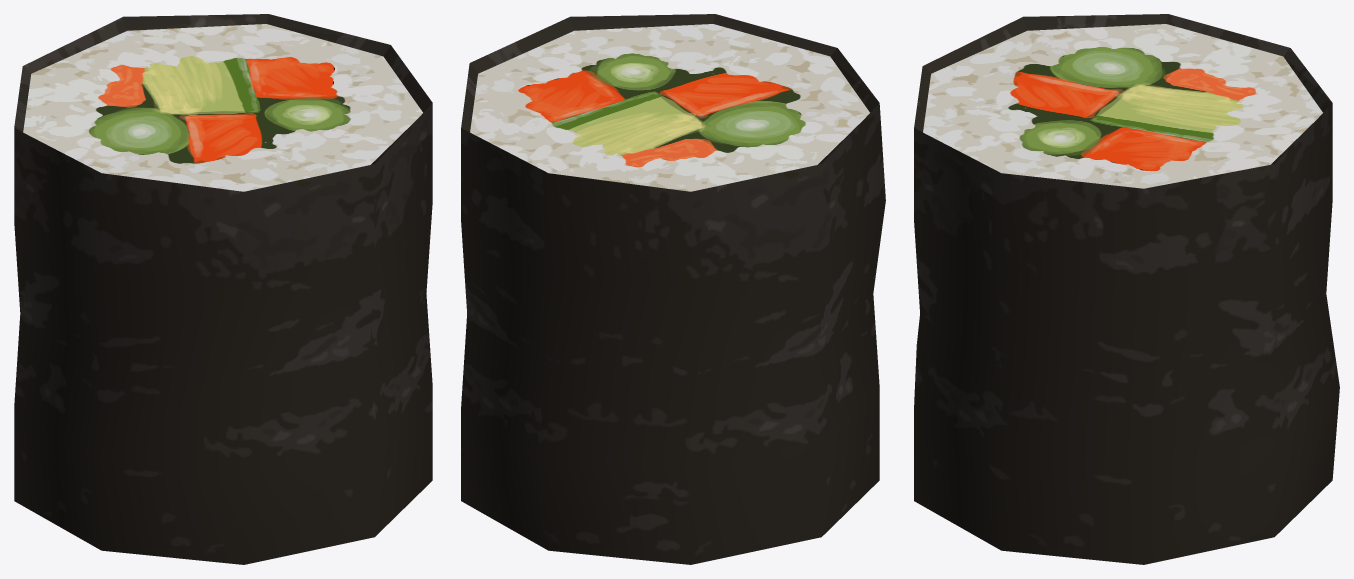
The model's file is maki_1.fbx.
The picture shows the model from 3 angles, left to right: view 1: azimuth 30°, elevation 25°; view 2: azimuth 150°, elevation 25°; view 3: azimuth 270°, elevation 25°; orthographic projection.
Visible parts, largest first — view 1: Cylinder002; view 2: Cylinder002; view 3: Cylinder002.
Boxes of the visible parts, bbox=[...] form: Cylinder002: bbox=[14, 14, 432, 564]; Cylinder002: bbox=[461, 14, 885, 564]; Cylinder002: bbox=[914, 14, 1339, 564].
Size of the model in its own units: 7.23 by 7.15 by 7.31.
